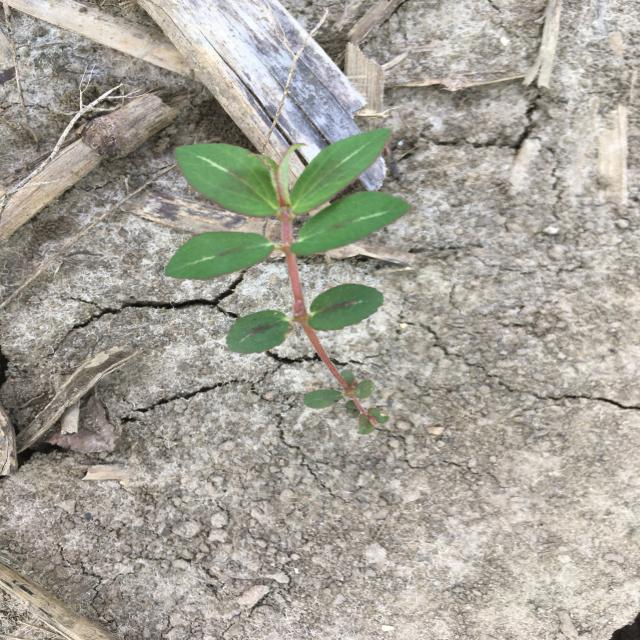SpottedSpurge: (162, 128, 414, 435)
